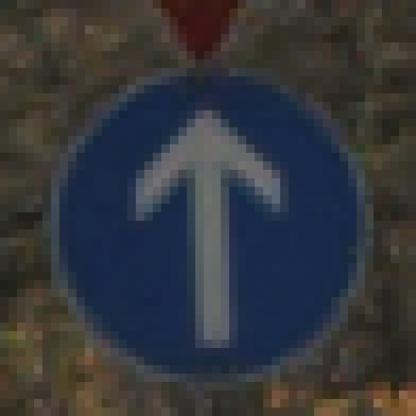AheadOnly: (52, 52, 374, 374)
